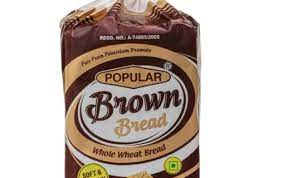bread: (61, 7, 209, 178)
